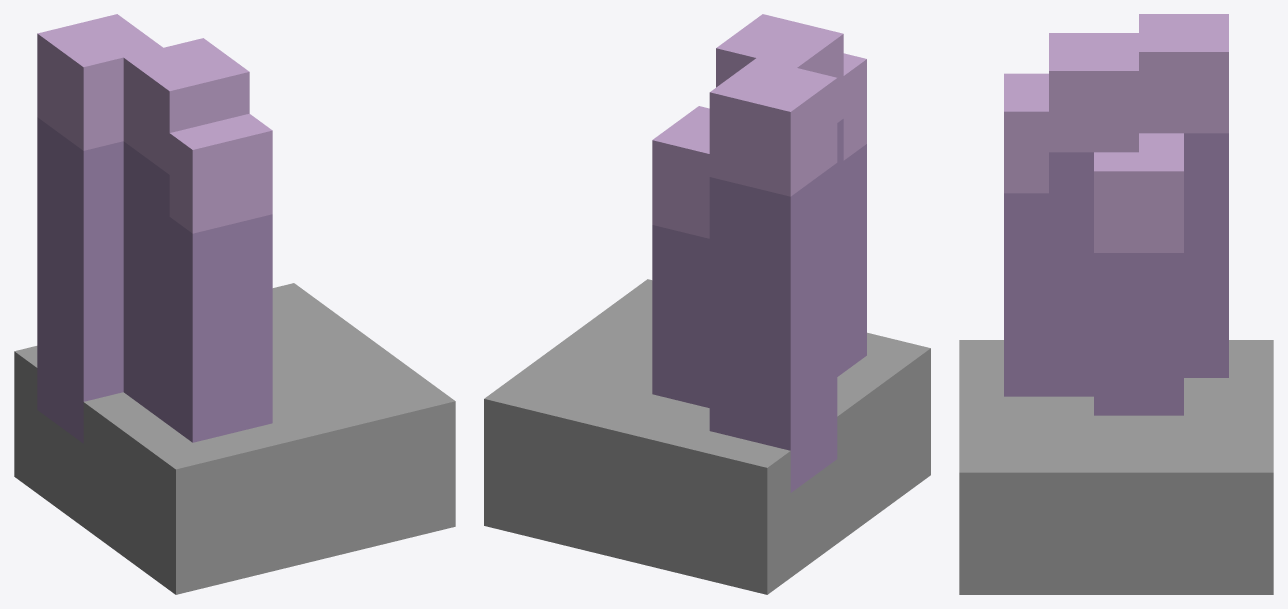
The model's file is amatista_03.glb.
3 renders of one model, left to right at view 1: azimuth 30°, elevation 25°; view 2: azimuth 150°, elevation 25°; view 3: azimuth 270°, elevation 25°, orthographic. The views are drawn at different scales.
Visible parts, largest first — view 1: amatista_03; view 2: amatista_03; view 3: amatista_03.
Boxes of the visible parts, <box> form: amatista_03: <box>14,14,455,594</box>; amatista_03: <box>484,14,930,594</box>; amatista_03: <box>959,14,1273,594</box>.
Bounding box in the file's own units: 0.7 × 1.1 × 0.7.
